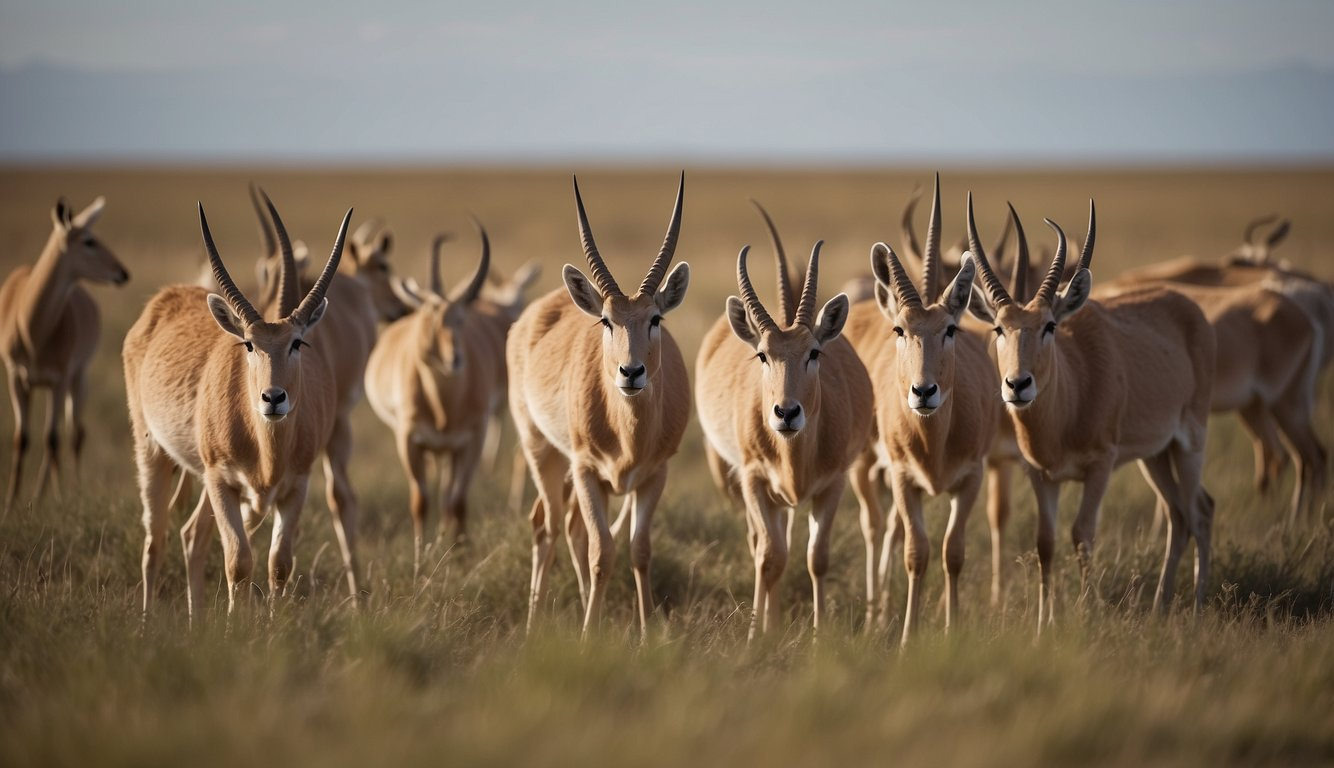saiga: (118, 195, 324, 634)
